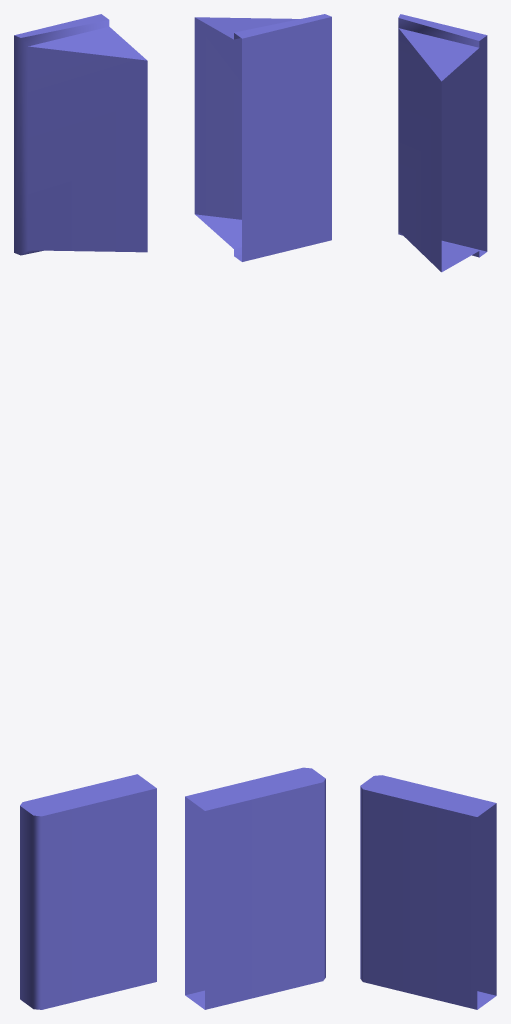
File: Cerradura.fbx
3 renders of one model, left to right at view 1: azimuth 30°, elevation 25°; view 2: azimuth 210°, elevation 25°; view 3: azimuth 330°, elevation 25°, orthographic. The views are drawn at different scales.
Parts seen in each view (by area): view 1: Cerradura; view 2: Cerradura; view 3: Cerradura.
Boxes of the visible parts, box(x1,y1,x2,y2) form: Cerradura: box(14, 14, 156, 1009); Cerradura: box(185, 14, 331, 1009); Cerradura: box(360, 14, 496, 1009).
Size of the model in its own units: 0.0196 by 0.1476 by 0.013.
